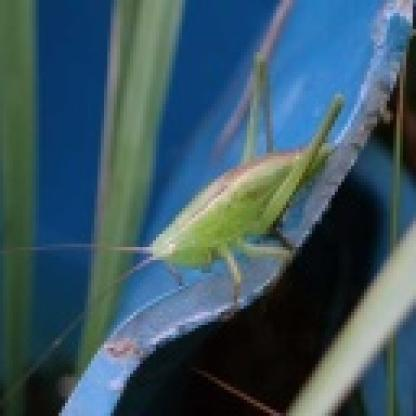grasshopper: (76, 54, 348, 305)
